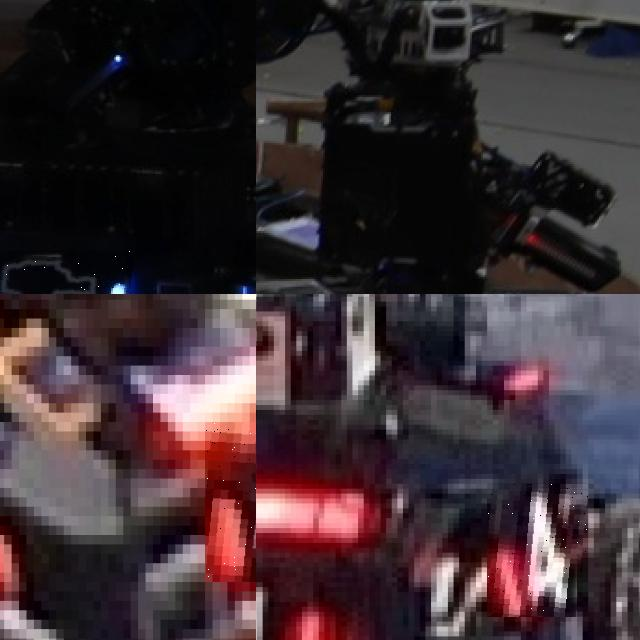Bs: (0, 251, 132, 294)
R4: (487, 483, 588, 617), (204, 422, 256, 582)
